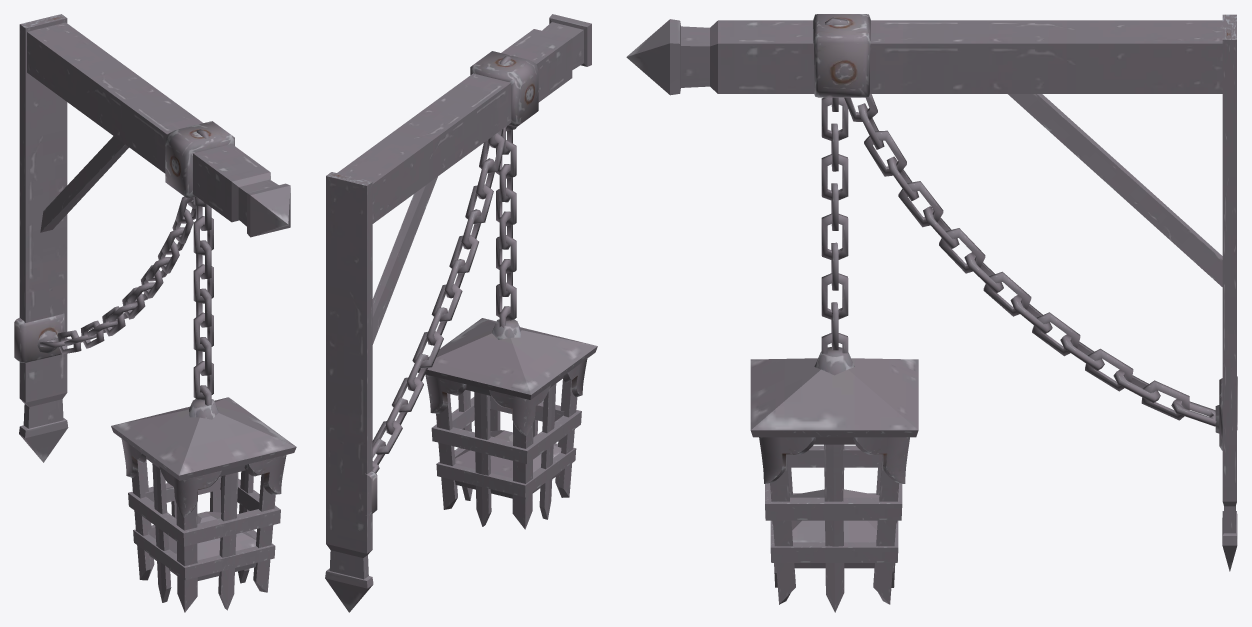
File: Lantern_Wall.glb
The picture shows the model from 3 angles, left to right: view 1: azimuth 30°, elevation 25°; view 2: azimuth 150°, elevation 25°; view 3: azimuth 270°, elevation 25°; orthographic projection. The views are drawn at different scales.
Visible parts, largest first — view 1: Lantern_Wall; view 2: Lantern_Wall; view 3: Lantern_Wall.
Part boxes in pixels (x1=…): Lantern_Wall: x1=14, y1=14, x2=296, y2=612; Lantern_Wall: x1=325, y1=14, x2=597, y2=612; Lantern_Wall: x1=626, y1=14, x2=1237, y2=612.
Size of the model in its own units: 0.3573 by 1.34 by 1.3.
Materials: 1 (1 with a texture image).
